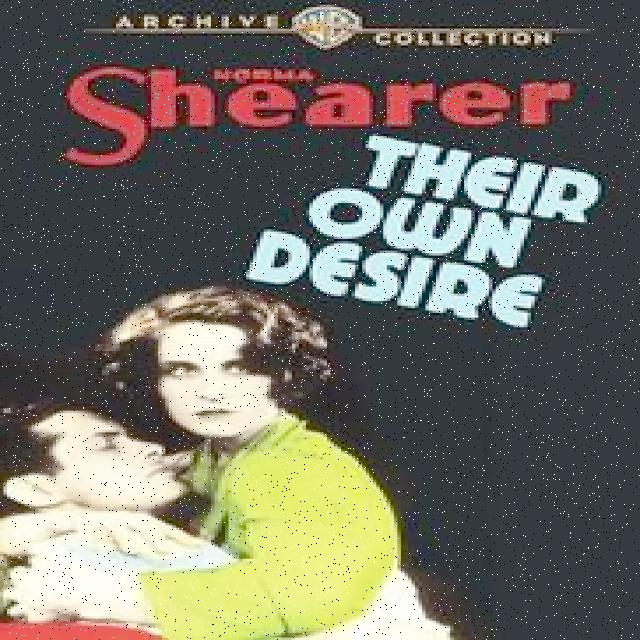movie-judul: (21, 50, 612, 333)
picture: (3, 272, 454, 640)
